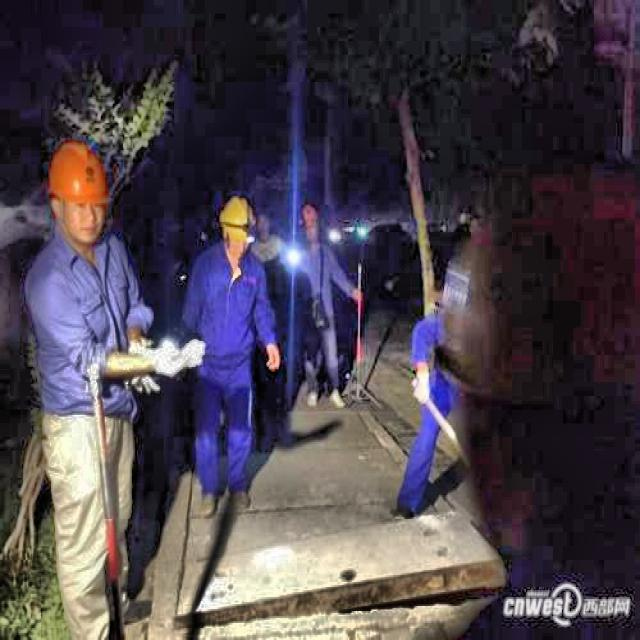helmet: (45, 136, 110, 248), (218, 193, 256, 263)
